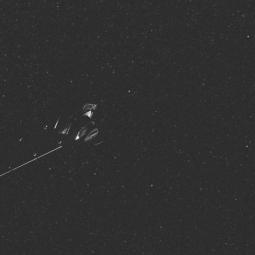earth_observation_sat_1: (33, 85, 115, 160)
